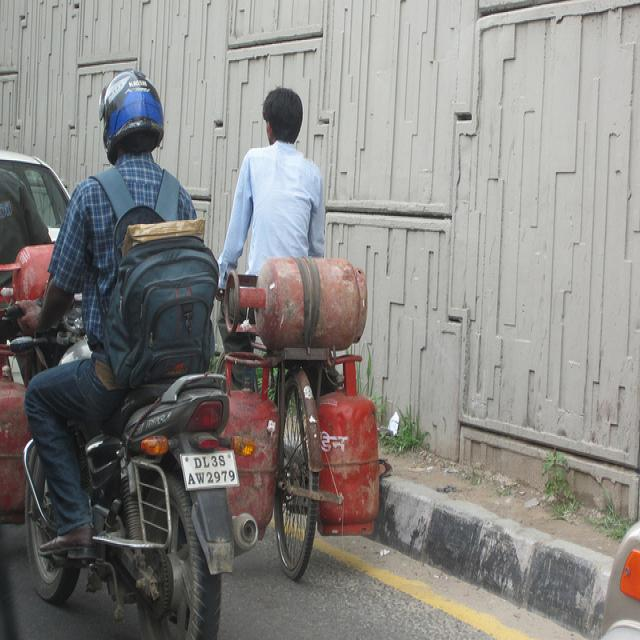motor: (11, 292, 259, 629)
